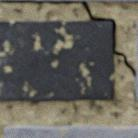brick: (0, 21, 114, 101), (5, 125, 137, 137), (135, 21, 137, 99), (65, 0, 137, 1), (35, 0, 63, 1)
crack: (0, 0, 135, 82), (133, 84, 137, 101)
